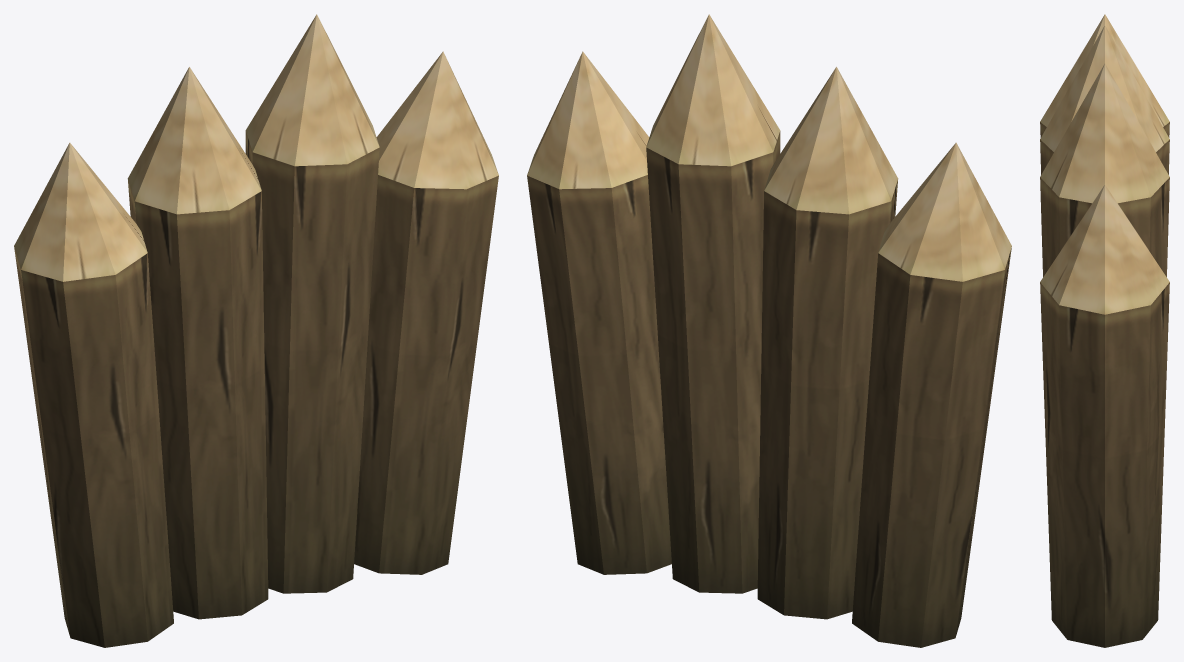
File: wooden_fence_50.fbx
3 views of the same model, side by side, from view 1: azimuth 30°, elevation 25°; view 2: azimuth 150°, elevation 25°; view 3: azimuth 270°, elevation 25° (orthographic). The views are drawn at different scales.
Parts seen in each view (by area): view 1: wooden_fence_50:Mesh; view 2: wooden_fence_50:Mesh; view 3: wooden_fence_50:Mesh.
Boxes of the visible parts, <box> form: wooden_fence_50:Mesh: <box>14,14,498,647</box>; wooden_fence_50:Mesh: <box>527,14,1011,647</box>; wooden_fence_50:Mesh: <box>1040,14,1169,647</box>.
Size of the model in its own units: 3.61 by 4.14 by 0.9226.
